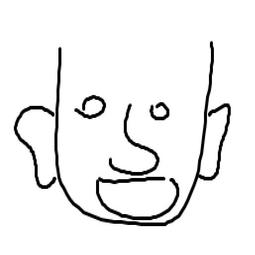empty_eye: (76, 91, 107, 121), (145, 100, 173, 123)
large_ear: (13, 105, 60, 191), (197, 101, 244, 183)
large_nose: (104, 101, 163, 176)
open_mouth: (95, 176, 183, 222)
